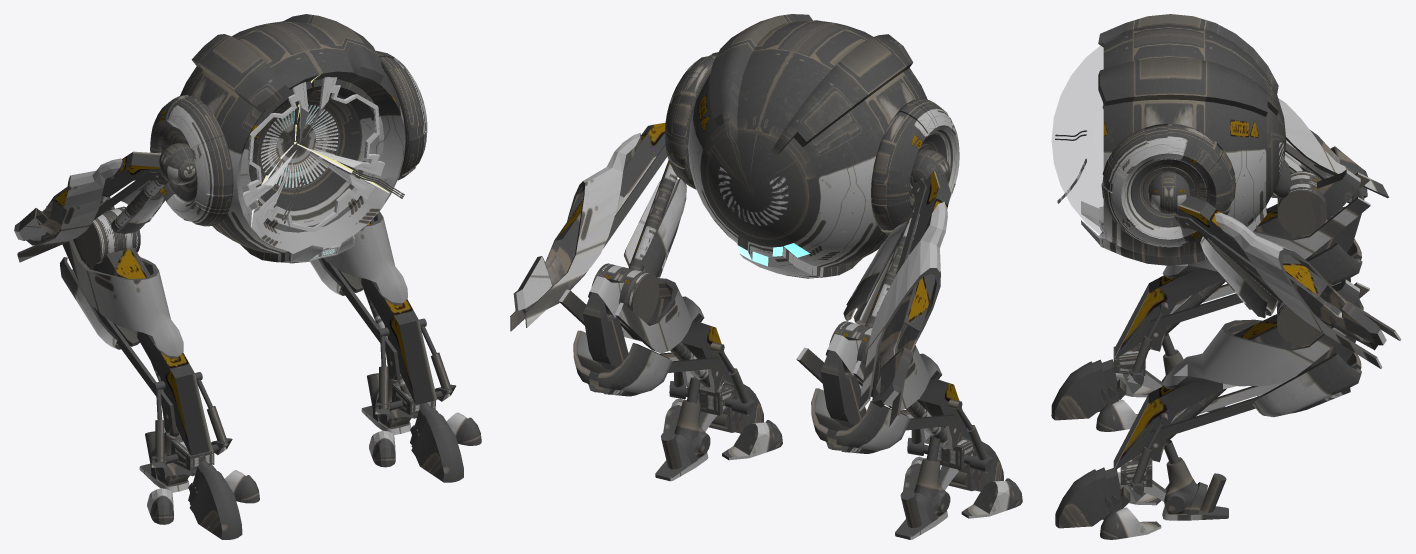
Rendered from RobotRond.dae.
3 renders of one model, left to right at view 1: azimuth 30°, elevation 25°; view 2: azimuth 150°, elevation 25°; view 3: azimuth 270°, elevation 25°, orthographic. The views are drawn at different scales.
Parts seen in each view (by area): view 1: intérieur oeil, corps, armure, armure.001, Cylinder003, Sphere005, Griffe, Sphere006, Gddp002, Gddp003, rotule, Talon (+8 smaller); view 2: corps, armure.001, armure, Cylinder001, Cylinder003, Sphere005, Talon, Talon.001, Sphere006, armure002, armure001, rotule.001 (+6 smaller); view 3: corps, armure.001, armure, Sphere006, Cylinder001, lentille, Talon.001, Cylinder003, rotule, Gddp002, Gddp003, armure002 (+15 smaller).
Boxes of the visible parts, x1,y1,x2,y2 form: intérieur oeil: (237, 71, 405, 251); corps: (180, 14, 404, 263); armure: (46, 197, 232, 467); armure.001: (310, 211, 455, 414); Cylinder003: (14, 151, 167, 262); Sphere005: (150, 95, 233, 226); Griffe: (243, 77, 385, 232); Sphere006: (376, 51, 427, 180); Gddp002: (189, 471, 242, 539); Gddp003: (411, 413, 463, 482); rotule: (76, 206, 140, 264); Talon: (139, 431, 196, 492); corps: (688, 14, 927, 278); armure.001: (558, 276, 755, 416); armure: (796, 334, 993, 472); Cylinder001: (510, 122, 677, 331); Cylinder003: (858, 171, 950, 428); Sphere005: (871, 98, 959, 237); Talon: (895, 436, 958, 539); Talon.001: (655, 377, 717, 481); Sphere006: (665, 52, 718, 189); armure002: (624, 178, 686, 278); armure001: (843, 221, 908, 325); rotule.001: (591, 263, 659, 322); corps: (1081, 14, 1286, 265); armure.001: (1113, 279, 1369, 496); armure: (1115, 169, 1370, 385); Sphere006: (1101, 123, 1235, 247); Cylinder001: (1174, 195, 1401, 368); lentille: (1052, 44, 1102, 236); Talon.001: (1130, 440, 1228, 520); Cylinder003: (1278, 98, 1388, 203); rotule: (1277, 171, 1327, 235); Gddp002: (1051, 361, 1107, 420); Gddp003: (1055, 469, 1110, 528); armure002: (1200, 235, 1278, 318).
Bounding box in the file's own units: 1.77 × 1.49 × 2.06.
